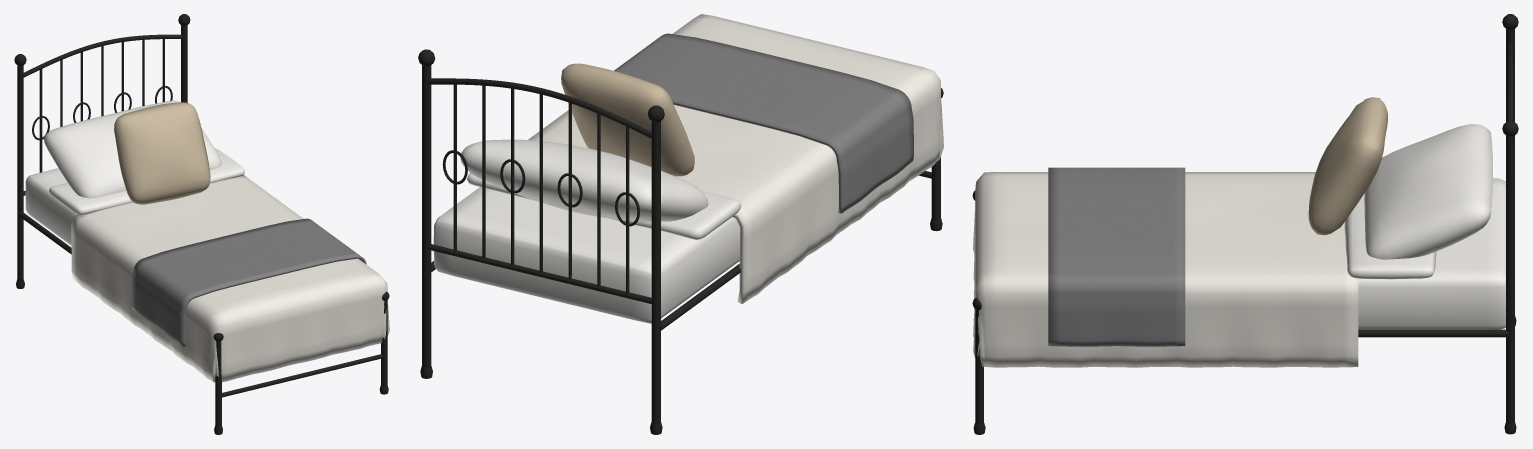
Rendered from cama_forja_90.glb.
3 renders of one model, left to right at view 1: azimuth 30°, elevation 25°; view 2: azimuth 150°, elevation 25°; view 3: azimuth 270°, elevation 25°, orthographic. The views are drawn at different scales.
Parts seen in each view (by area): view 1: cama_forja_90; view 2: cama_forja_90; view 3: cama_forja_90.
Part boxes in pixels (box(x1,y1,x2,y2)): cama_forja_90: box(14, 14, 389, 434); cama_forja_90: box(418, 14, 943, 434); cama_forja_90: box(972, 14, 1518, 434).
Bounding box in the file's own units: 1.05 × 1.25 × 1.99.
5 materials, 4 textured.
